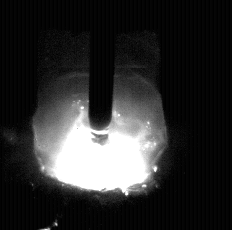arame: (89, 0, 114, 130)
poca: (33, 0, 167, 230)
